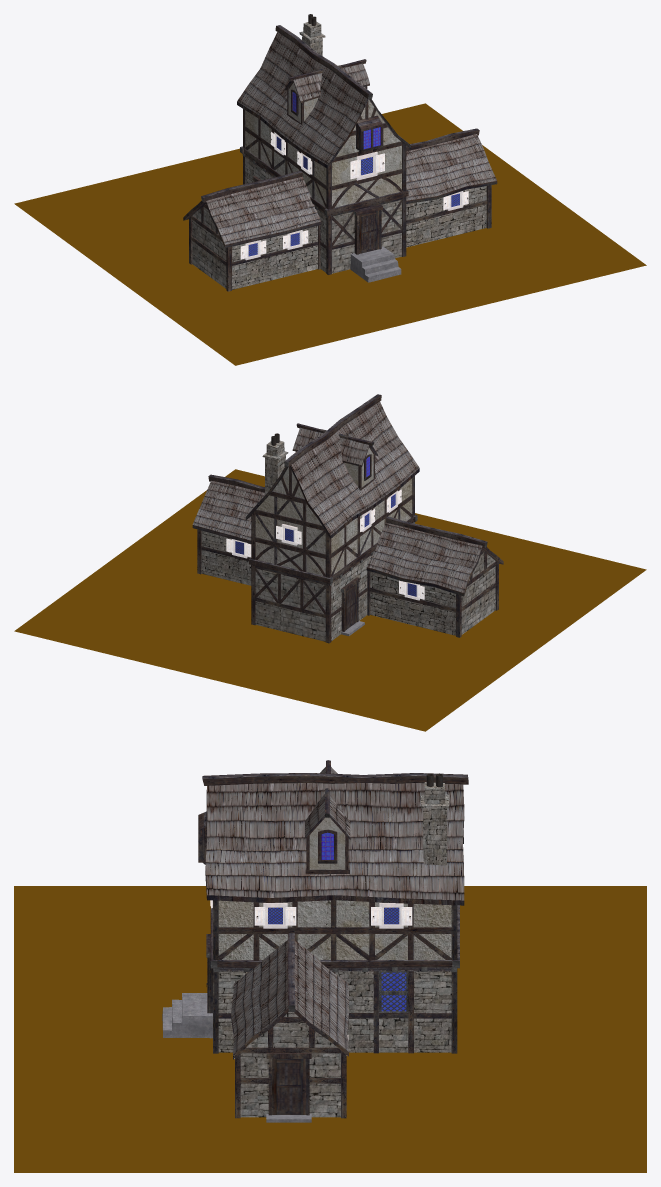
The model's file is terror_house2.glb.
The picture shows the model from 3 angles, top to bottom: view 1: azimuth 30°, elevation 25°; view 2: azimuth 150°, elevation 25°; view 3: azimuth 270°, elevation 25°; orthographic projection. The views are drawn at different scales.
Visible parts, largest first — view 1: Plane, Roof, Level1, WoodenBeams, Level2, RoofFrame, WindowFrames, Steps, DoorFront, Chimney; view 2: Plane, Roof, Level1, WoodenBeams, Level2, RoofFrame, WindowFrames, Chimney; view 3: Plane, Roof, Level1, WoodenBeams, Level2, RoofFrame, WindowFrames, Steps, Chimney, DoorSide, Level3, Window1Level1 (+1 smaller).
Part boxes in pixels (x1,y1,x2,y2): Plane: (14,103,646,365); Roof: (206,31,496,244); Level1: (192,157,486,289); WoodenBeams: (189,81,491,291); Level2: (245,99,401,207); RoofFrame: (183,25,497,248); WindowFrames: (240,89,468,260); Steps: (350,246,401,282); DoorFront: (359,210,379,253); Chimney: (299,21,325,55); Plane: (14,469,646,731); Roof: (192,401,482,592); Level1: (201,530,495,641); WoodenBeams: (197,446,498,643); Level2: (255,467,412,575); RoofFrame: (192,394,503,596); WindowFrames: (226,454,424,600); Chimney: (262,440,288,494); Plane: (14,886,646,1172); Roof: (205,767,464,1054); Level1: (218,971,451,1117); WoodenBeams: (210,817,459,1118); Level2: (218,900,451,959); RoofFrame: (202,760,468,1059); WindowFrames: (198,811,412,1058); Steps: (162,993,212,1038); Chimney: (420,782,449,865); DoorSide: (272,1059,306,1114); Level3: (309,817,345,869); Window1Level1: (381,972,406,1011).
Size of the model in its own units: 22.44 by 9.79 by 20.92.
Materials: 17 (16 with a texture image).
